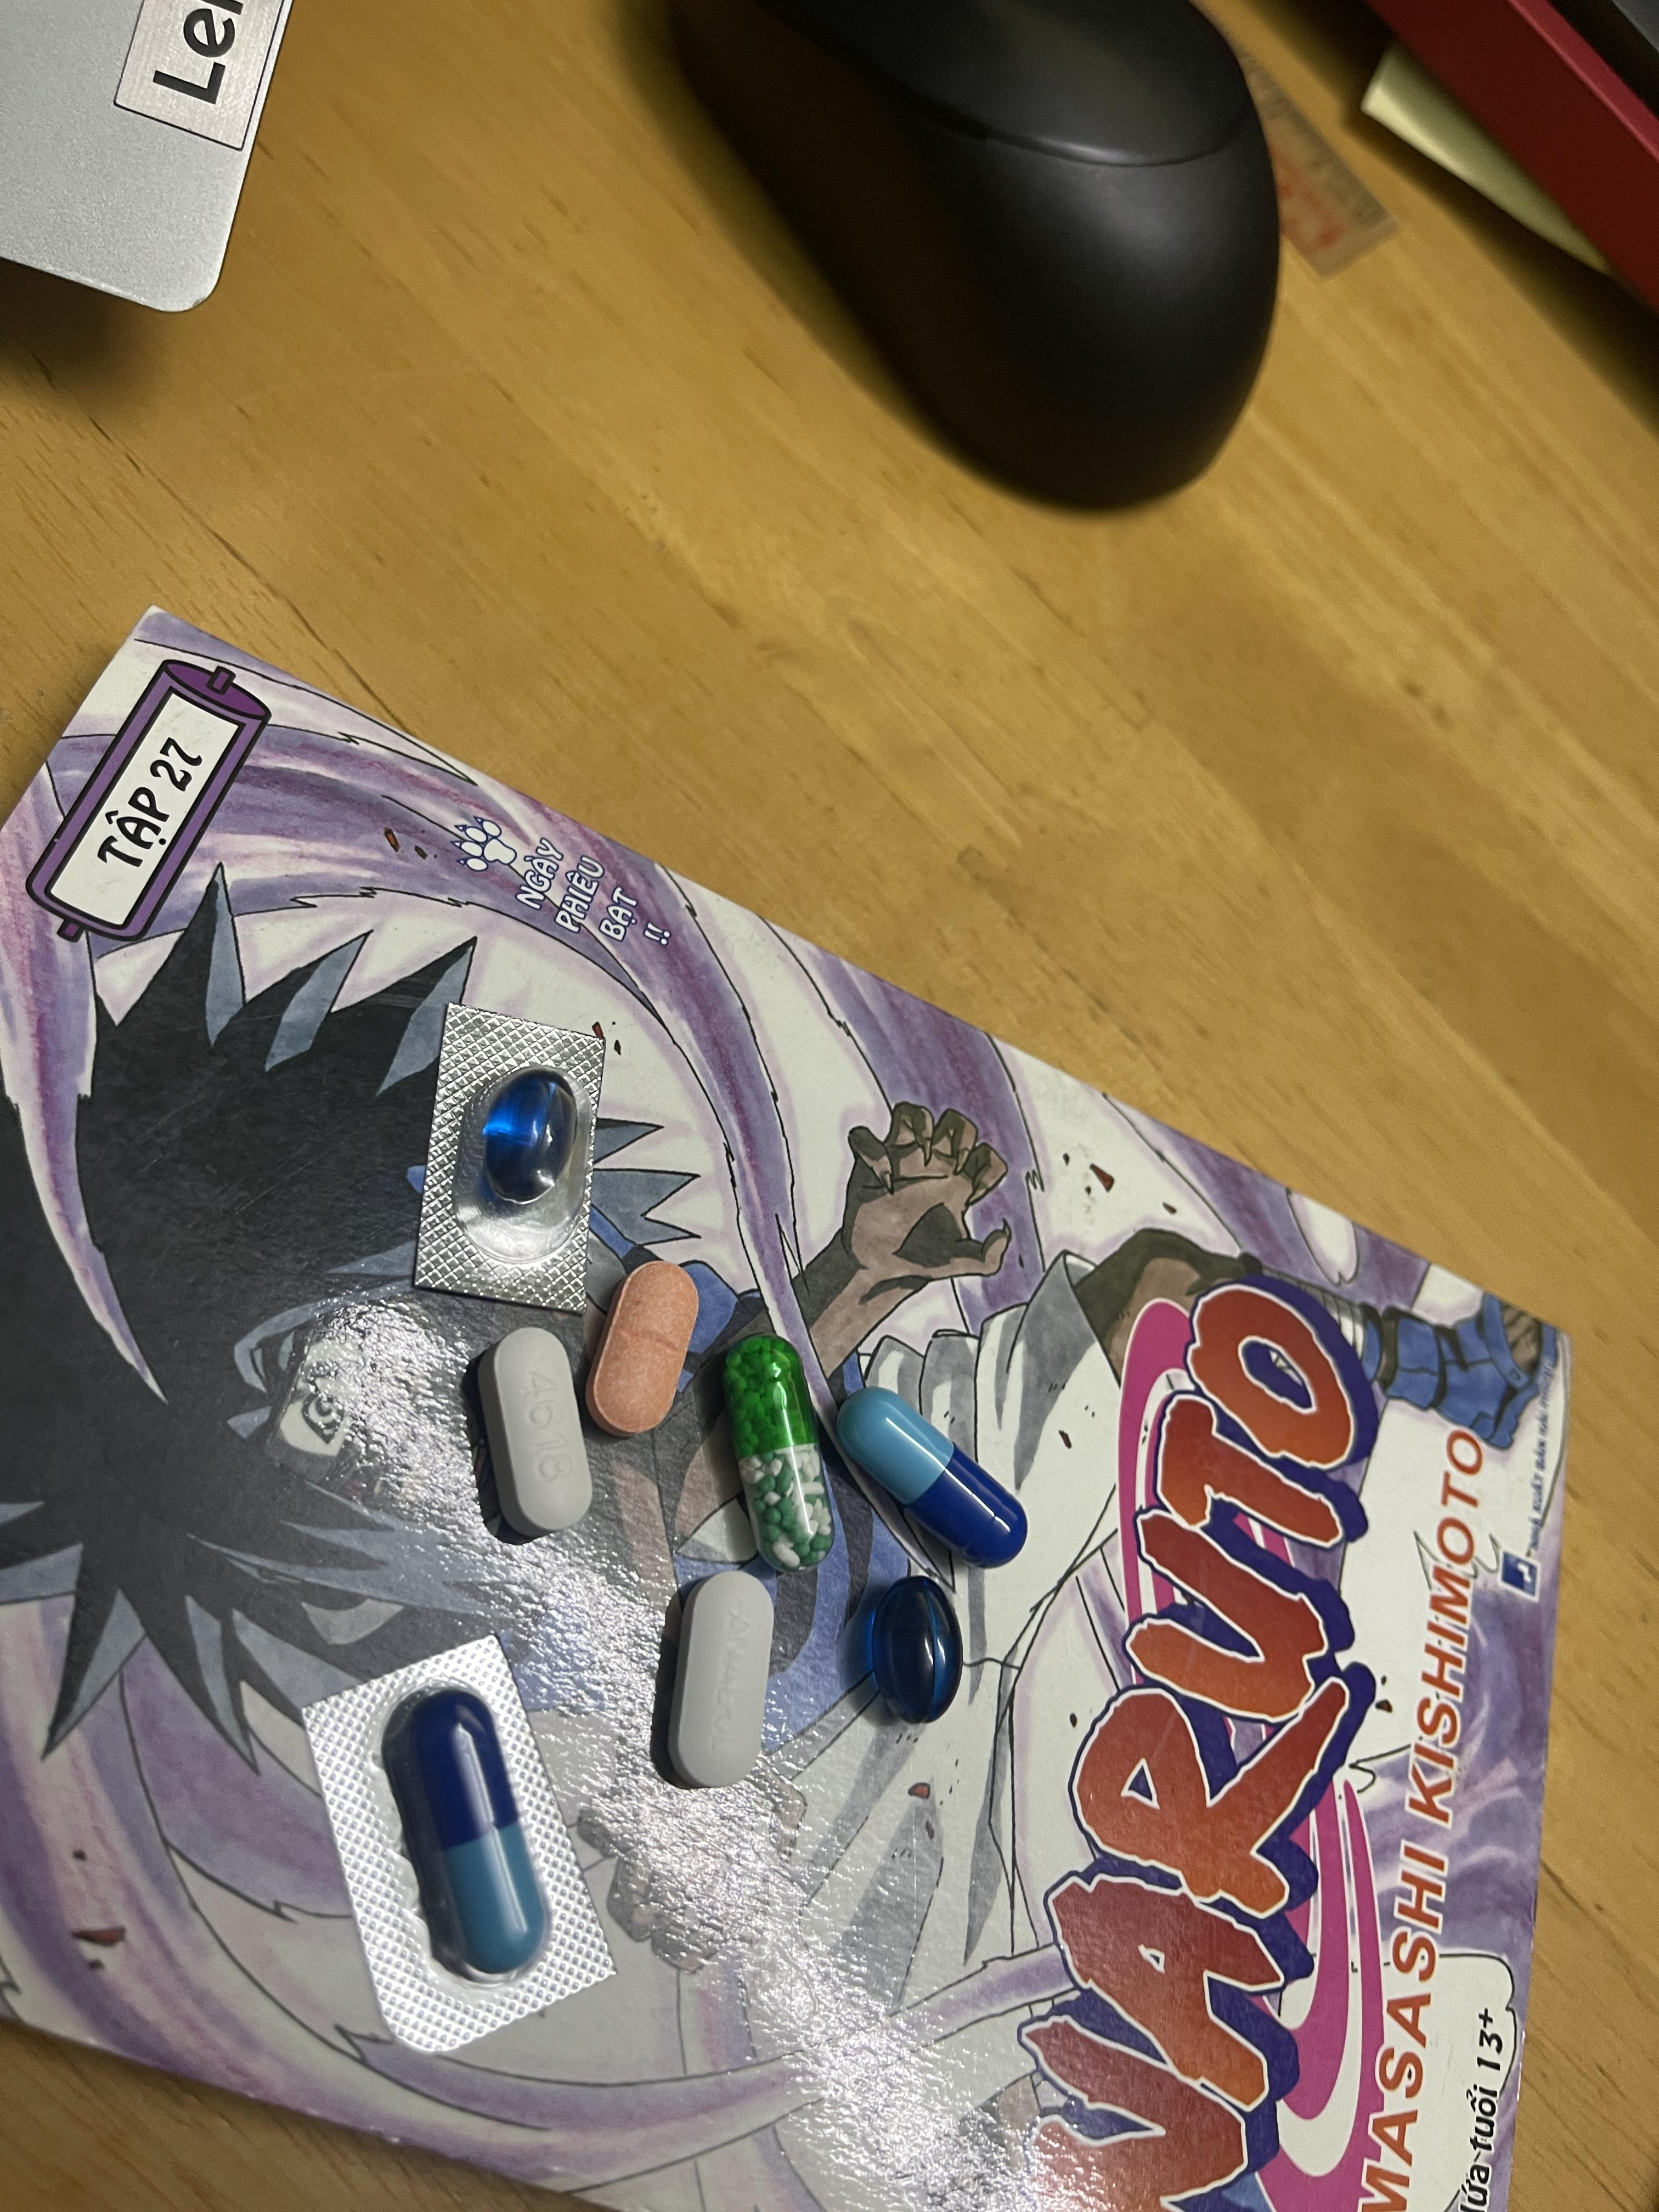Lincomyxin_500mg: (866, 1576, 964, 1724), (479, 1073, 572, 1204)
Loratadine_10mg: (586, 1259, 701, 1430)
Paracetamol_350mg: (653, 1569, 777, 1791)
Paracetamol_500mg: (477, 1329, 596, 1543)
Paracetamol_650mg: (723, 1338, 833, 1566)
pill: (394, 1693, 549, 1984), (838, 1388, 1026, 1568)
